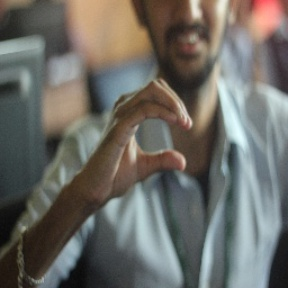C: (115, 77, 198, 179)
